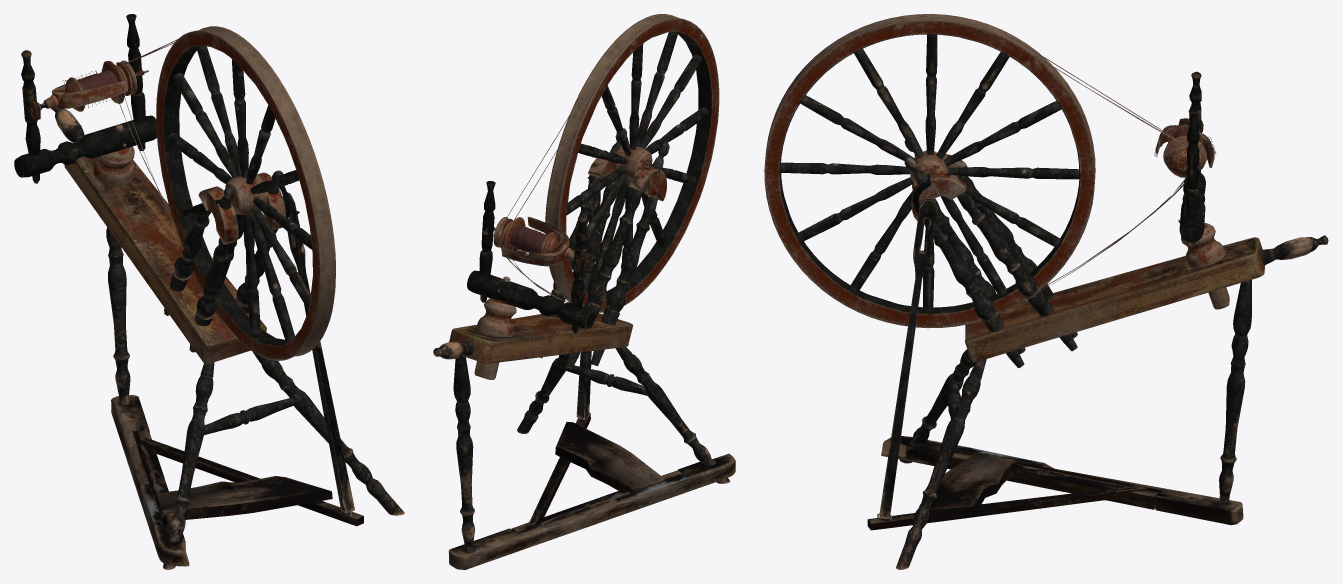
File: spinning_wheel_01.glb
The picture shows the model from 3 angles, left to right: view 1: azimuth 30°, elevation 25°; view 2: azimuth 150°, elevation 25°; view 3: azimuth 270°, elevation 25°; orthographic projection. The views are drawn at different scales.
Parts seen in each view (by area): view 1: spinning_wheel_01; view 2: spinning_wheel_01; view 3: spinning_wheel_01.
Part boxes in pixels (bbox=[...]): spinning_wheel_01: bbox=[14, 14, 404, 569]; spinning_wheel_01: bbox=[433, 14, 735, 569]; spinning_wheel_01: bbox=[764, 14, 1328, 569].
Size of the model in its own units: 0.4893 by 0.9657 by 1.02.
Materials: 1 (1 with a texture image).
